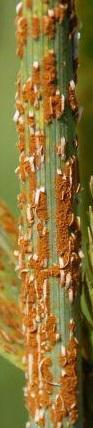Wheat: (15, 209, 79, 423), (18, 9, 82, 202)
